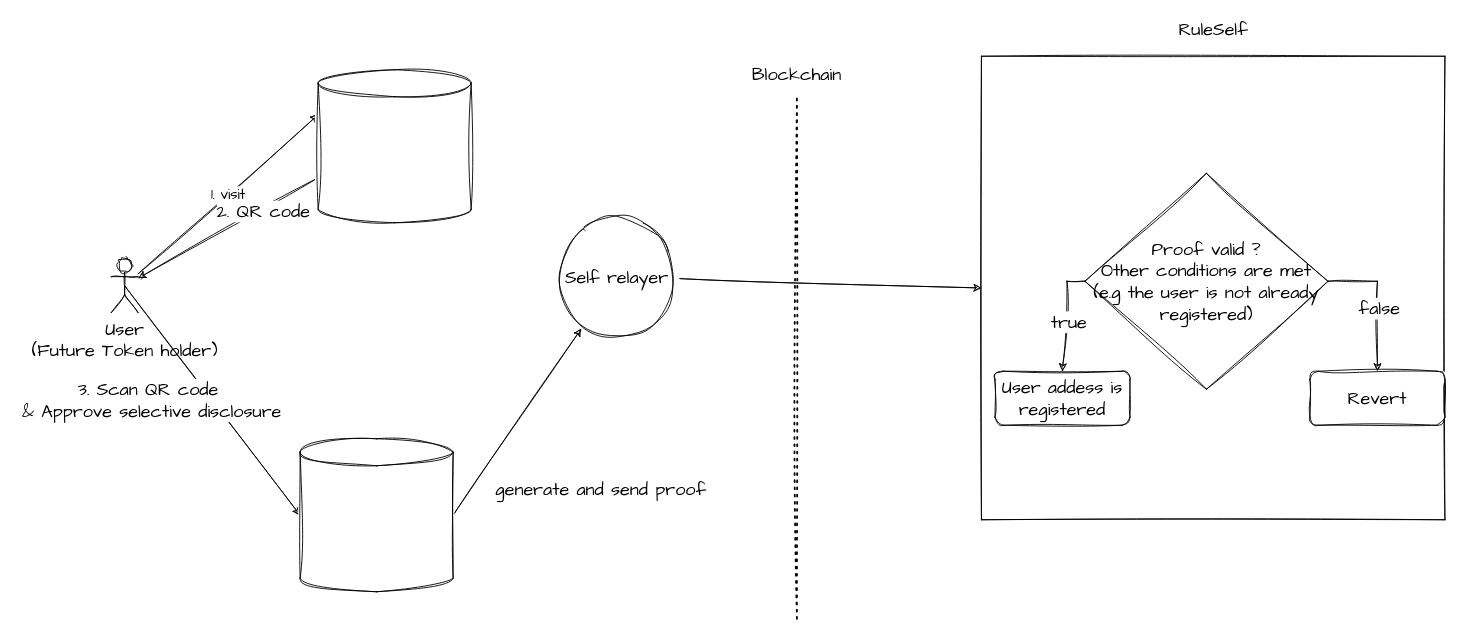
Some shapes in this 1462 by 635 pixel diagram are drawn without their labels. The centre of each missing label's shape, as x and y in pixels:
"Application website" belongs at pixel 394 146.
"Self Mobile APP" belongs at pixel 376 515.
